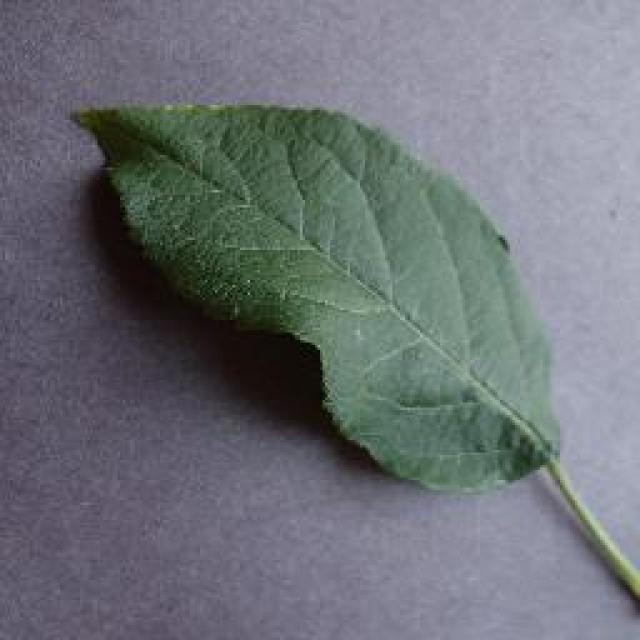apple scab disease: (68, 95, 638, 633)
